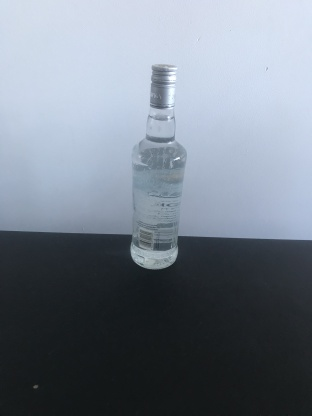nakretka: (148, 62, 179, 112)
